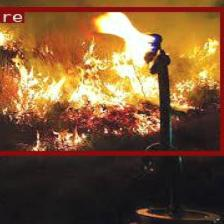fire: (0, 7, 224, 154)
